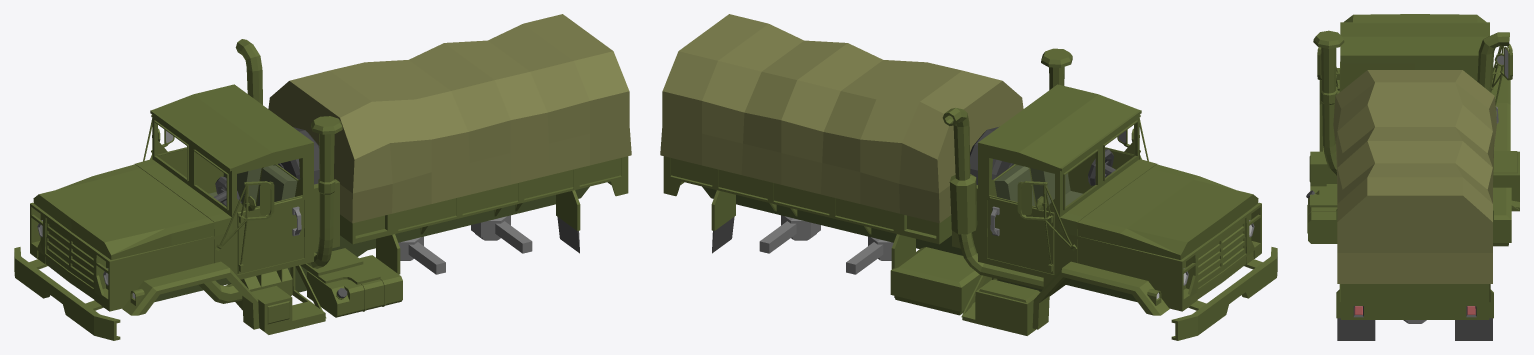
The model's file is truck1.glb.
The picture shows the model from 3 angles, left to right: view 1: azimuth 30°, elevation 25°; view 2: azimuth 150°, elevation 25°; view 3: azimuth 270°, elevation 25°; orthographic projection. The views are drawn at different scales.
Visible parts, largest first — view 1: Main; view 2: Main; view 3: Main.
Part boxes in pixels (<box>): Main: <box>14,14,631,340</box>; Main: <box>660,14,1277,340</box>; Main: <box>1306,14,1519,340</box>.
Size of the model in its own units: 7.26 by 2.7 by 2.67.
